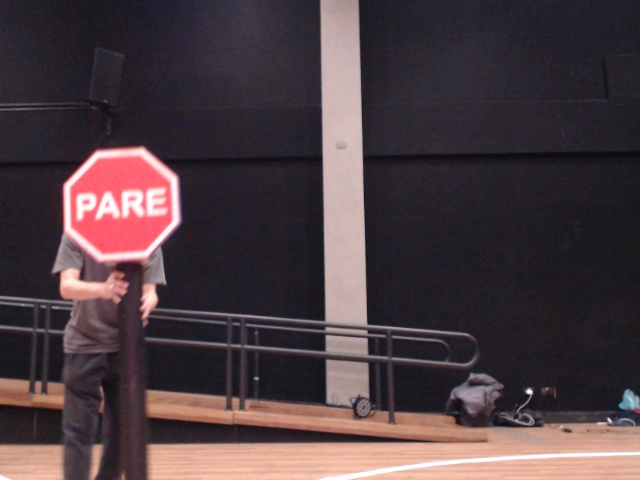SEMAFORO: (6, 110, 256, 340)
